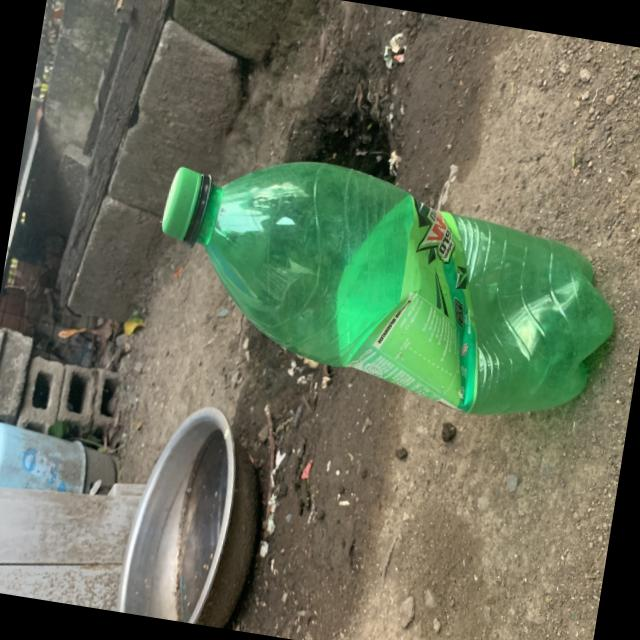Bottle: (163, 161, 614, 414)
